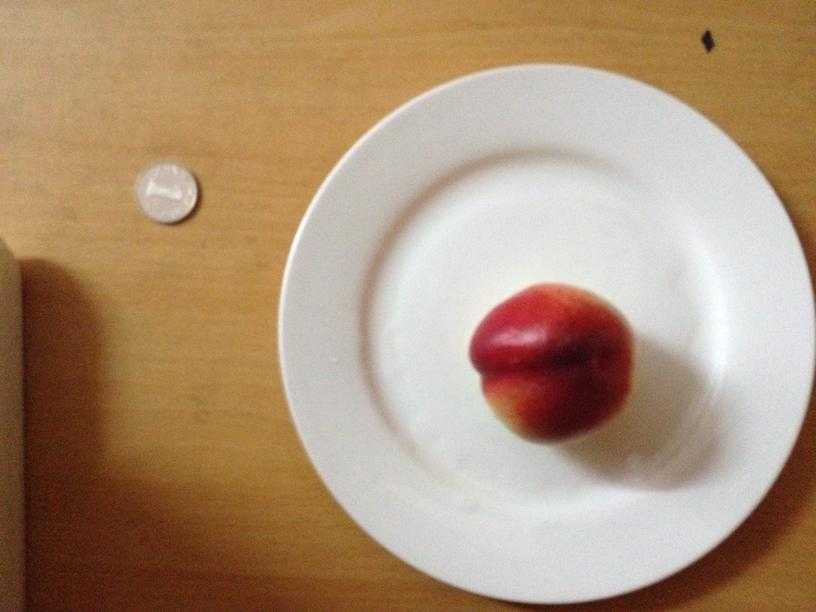coin: (132, 163, 200, 223)
peach: (466, 279, 634, 444)
